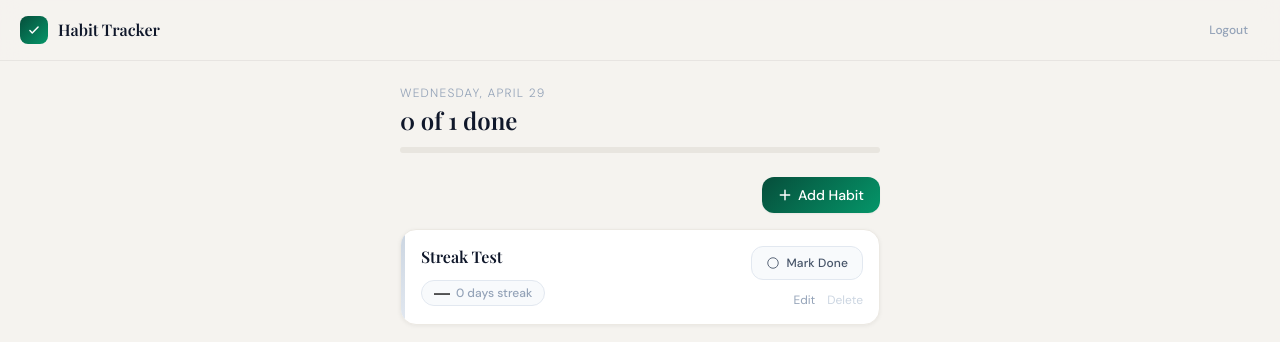
Test case: habit form › toggles completion and updates the streak display
This screenshot has width=1280, height=342.
expect the element with test id "habit-streak-streak-test" shows "0": met, box [456,285,532,301]
What coordinates should you click on to do the following:
click the button with test id "habit-complete-streak-test"
I would click on:
 (807, 263)
Its box is [752,246,863,280].
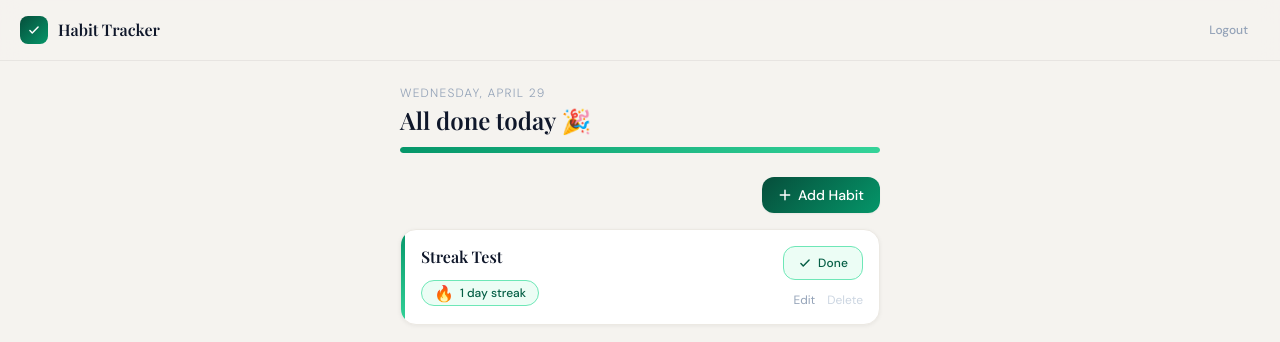
expect the element with test id "habit-streak-streak-test" shows "1": met, box [460,285,526,301]
